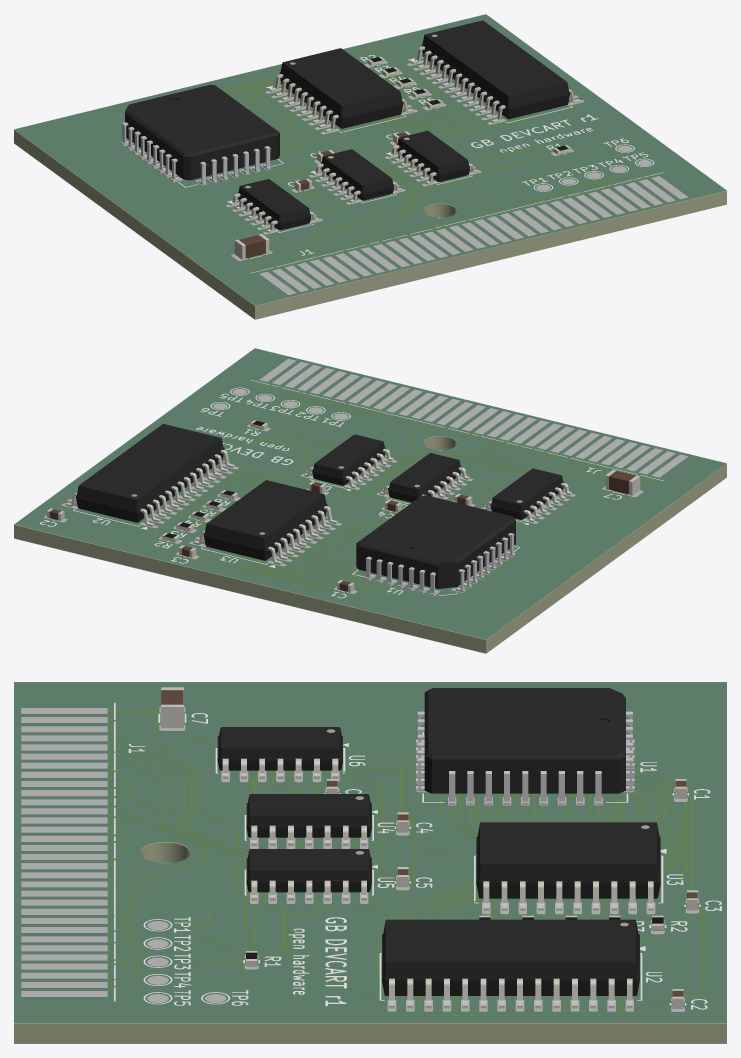
File: board.glb
3 renders of one model, top to bottom at view 1: azimuth 30°, elevation 25°; view 2: azimuth 150°, elevation 25°; view 3: azimuth 270°, elevation 25°, orthographic. The views are drawn at different scales.
Parts seen in each view (by area): view 1: =>[0:1:1:22], =>[0:1:1:24], =>[0:1:1:19], body, =>[0:1:1:15], =>[0:1:1:3] (×3), =>[0:1:1:7], =>[0:1:1:18], =>[0:1:1:21], leads, =>[0:1:1:23], =>[0:1:1:17]; view 2: =>[0:1:1:22], =>[0:1:1:24], =>[0:1:1:19], body, =>[0:1:1:15], =>[0:1:1:3] (×3), =>[0:1:1:7], =>[0:1:1:18], =>[0:1:1:21], leads, =>[0:1:1:23], =>[0:1:1:17]; view 3: =>[0:1:1:22], =>[0:1:1:24], =>[0:1:1:19], =>[0:1:1:15], body, =>[0:1:1:3] (×3), =>[0:1:1:7], =>[0:1:1:18], =>[0:1:1:21], leads, =>[0:1:1:17], =>[0:1:1:23].
Boxes of the visible parts, x1=… form: =>[0:1:1:22]: x1=14, y1=14, x2=726, y2=305; =>[0:1:1:24]: x1=14, y1=15, x2=726, y2=319; =>[0:1:1:19]: x1=121, y1=60, x2=688, y2=294; body: x1=125, y1=84, x2=279, y2=180; =>[0:1:1:15]: x1=411, y1=20, x2=580, y2=123; =>[0:1:1:3] (×3): x1=229, y1=130, x2=477, y2=232; =>[0:1:1:7]: x1=269, y1=48, x2=413, y2=132; =>[0:1:1:18]: x1=133, y1=37, x2=654, y2=272; =>[0:1:1:21]: x1=122, y1=55, x2=663, y2=273; leads: x1=121, y1=122, x2=270, y2=185; =>[0:1:1:23]: x1=14, y1=143, x2=726, y2=319; =>[0:1:1:17]: x1=234, y1=233, x2=269, y2=259; =>[0:1:1:22]: x1=14, y1=348, x2=726, y2=639; =>[0:1:1:24]: x1=14, y1=349, x2=726, y2=653; =>[0:1:1:19]: x1=44, y1=359, x2=688, y2=596; body: x1=356, y1=495, x2=515, y2=588; =>[0:1:1:15]: x1=65, y1=424, x2=234, y2=526; =>[0:1:1:3] (×3): x1=304, y1=434, x2=572, y2=522; =>[0:1:1:7]: x1=193, y1=480, x2=337, y2=564; =>[0:1:1:18]: x1=46, y1=381, x2=655, y2=593; =>[0:1:1:21]: x1=39, y1=380, x2=663, y2=598; leads: x1=365, y1=533, x2=515, y2=595; =>[0:1:1:23]: x1=14, y1=449, x2=726, y2=653; =>[0:1:1:17]: x1=605, y1=469, x2=640, y2=495; =>[0:1:1:22]: x1=14, y1=682, x2=726, y2=1022; =>[0:1:1:24]: x1=14, y1=683, x2=726, y2=1043; =>[0:1:1:19]: x1=21, y1=706, x2=699, y2=1011; =>[0:1:1:15]: x1=382, y1=919, x2=639, y2=1008; body: x1=424, y1=688, x2=625, y2=793; =>[0:1:1:3] (×3): x1=217, y1=727, x2=371, y2=900; =>[0:1:1:7]: x1=476, y1=822, x2=660, y2=910; =>[0:1:1:18]: x1=108, y1=710, x2=704, y2=1015; =>[0:1:1:21]: x1=114, y1=702, x2=721, y2=1009; leads: x1=416, y1=711, x2=634, y2=805; =>[0:1:1:17]: x1=161, y1=687, x2=183, y2=727; =>[0:1:1:23]: x1=14, y1=862, x2=726, y2=1043.
Size of the model in its own units: 0.056 by 0.00515 by 0.0495.
